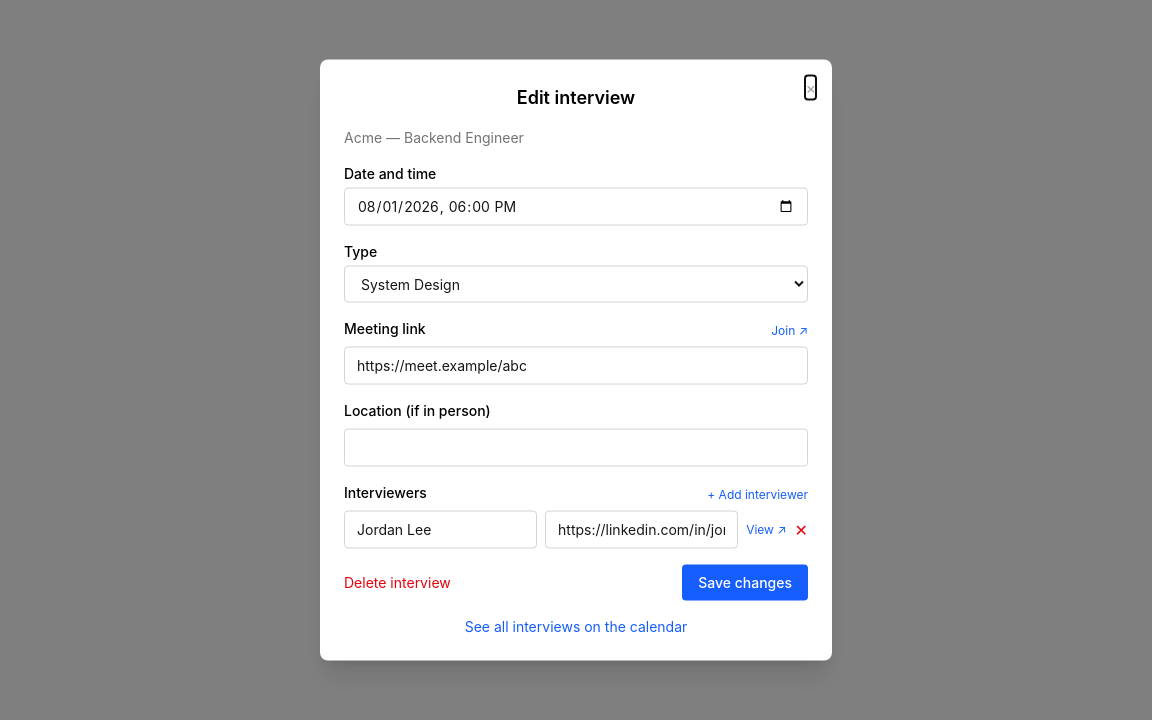
InterviewFormModal › supports adding and removing additional interviewers
The image size is (1152, 720).
Expected: the number of fields named "Interviewer name" is 1, 344,510 -> 537,548
Click the button "+ Add interviewer" at (758,494), box 707,486 -> 808,502
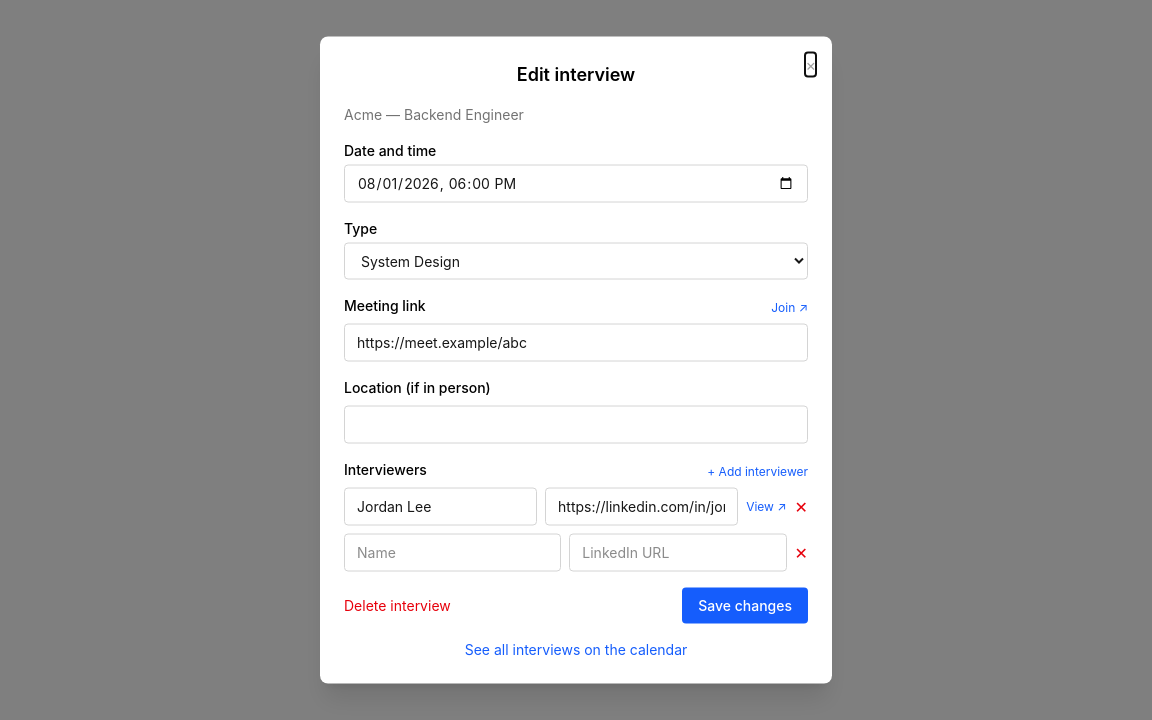
Expected: the number of fields named "Interviewer name" is 2, 344,488 -> 537,526; 344,534 -> 561,572
Click the button named "Remove interviewer" at (801,552), box 795,540 -> 808,564
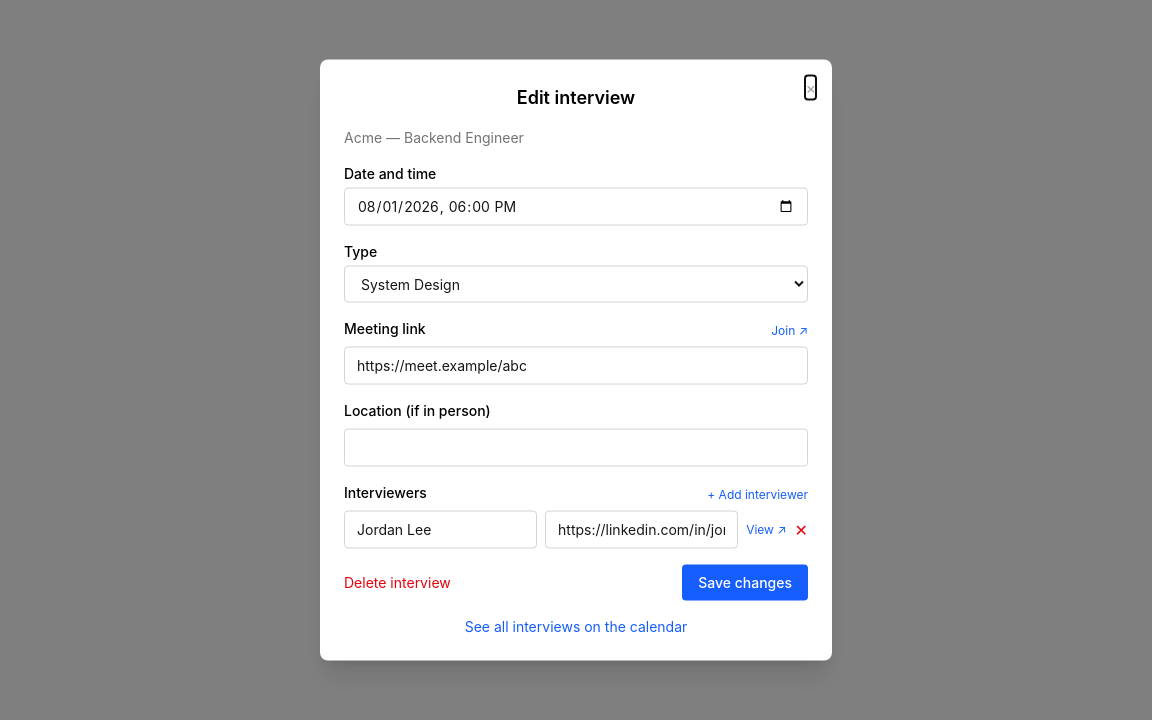
Expected: the number of fields named "Interviewer name" is 1, 344,510 -> 537,548
